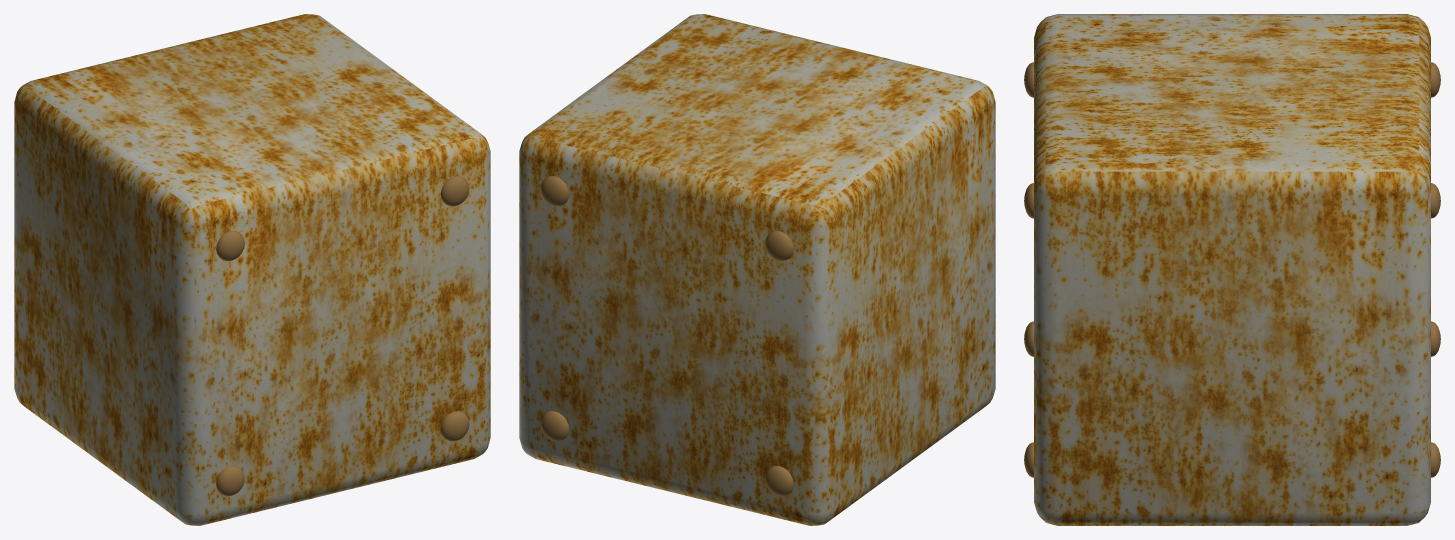
File: block_used.glb
3 renders of one model, left to right at view 1: azimuth 30°, elevation 25°; view 2: azimuth 150°, elevation 25°; view 3: azimuth 270°, elevation 25°, orthographic. The views are drawn at different scales.
Visible parts, largest first — view 1: used, rivet.008, rivet.009, rivet.010, rivet.011; view 2: used, rivet.012, rivet.013, rivet.014, rivet.015; view 3: used.
Boxes of the visible parts, box(x1,y1,x2,y2) form: used: box(14, 14, 490, 525); rivet.008: box(216, 465, 244, 496); rivet.009: box(216, 230, 244, 261); rivet.010: box(440, 411, 469, 441); rivet.011: box(440, 176, 469, 206); used: box(519, 14, 995, 525); rivet.012: box(765, 465, 793, 496); rivet.013: box(765, 230, 793, 261); rivet.014: box(540, 411, 569, 441); rivet.015: box(540, 176, 569, 206); used: box(1034, 14, 1430, 525).
Size of the model in its own units: 1 by 1 by 1.05.
Materials: 2 (1 with a texture image).
